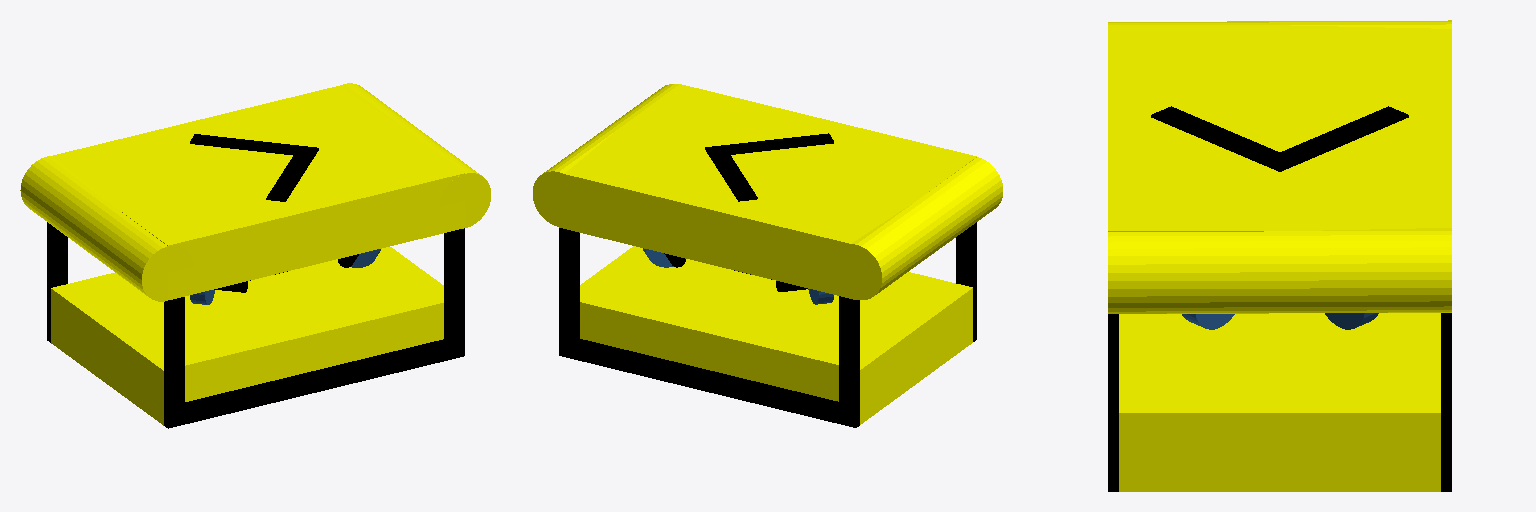
--- Render facts (derived) ---
Views: 3 orthographic renders of the robot side by side, from view 1: azimuth 30°, elevation 25°; view 2: azimuth 150°, elevation 25°; view 3: azimuth 270°, elevation 25°.
Robot: bravo_toy_saab — 34 links, 33 joints (1 revolute, 32 fixed); root link new_base; default pose: all joints at 0.
Links seen in each view (by area): view 1: vehicle_base_link, bottom_body_link, rear_bumper, R_bar, front_bumper, B_R_bar, F_R_bar, B_L_bar, l_arrow, r_arrow; view 2: vehicle_base_link, bottom_body_link, rear_bumper, L_bar, front_bumper, B_L_bar, F_L_bar, B_R_bar, r_arrow, l_arrow; view 3: vehicle_base_link, bottom_body_link, front_bumper, l_arrow, r_arrow, F_L_bar, F_R_bar, rear_bumper, pf_fan, sf_fan.
Link boxes in pixels (box(x1,y1,x2,y2)): vehicle_base_link: box(53, 86, 464, 299); bottom_body_link: box(51, 247, 443, 425); rear_bumper: box(20, 156, 193, 301); R_bar: box(164, 338, 464, 427); front_bumper: box(340, 83, 490, 227); B_R_bar: box(164, 297, 184, 428); F_R_bar: box(444, 228, 464, 359); B_L_bar: box(47, 222, 67, 324); l_arrow: box(190, 134, 318, 155); r_arrow: box(266, 146, 318, 201); vehicle_base_link: box(559, 84, 976, 299); bottom_body_link: box(580, 246, 972, 424); rear_bumper: box(830, 157, 1002, 299); L_bar: box(562, 338, 859, 427); front_bumper: box(533, 84, 678, 227); B_L_bar: box(839, 296, 859, 427); F_L_bar: box(559, 228, 579, 359); B_R_bar: box(956, 222, 976, 323); r_arrow: box(708, 133, 833, 154); l_arrow: box(705, 145, 757, 201); vehicle_base_link: box(1108, 25, 1451, 231); bottom_body_link: box(1119, 313, 1440, 491); front_bumper: box(1108, 228, 1451, 313); l_arrow: box(1263, 106, 1408, 171); r_arrow: box(1151, 106, 1295, 171); F_L_bar: box(1441, 313, 1451, 491); F_R_bar: box(1108, 314, 1118, 491); rear_bumper: box(1108, 20, 1451, 28); pf_fan: box(1325, 313, 1378, 329); sf_fan: box(1182, 314, 1234, 329).
Bounding box of the posed robot: 1 × 0.6007 × 0.505 m (x, y, z).
Geometry: only primitive shapes (box / cylinder / sphere) drawn; not drawn: 16 mesh visuals (reference in a form the renderer does not follow).

robot.urdf — bravo_toy_saab:
<?xml version="1.0" encoding="utf-8"?>
<!-- =================================================================================== -->
<!-- |    This document was autogenerated by xacro from test_reach5mini.urdf.xacro     | -->
<!-- |    EDITING THIS FILE BY HAND IS NOT RECOMMENDED                                 | -->
<!-- |    Unless you're Marcus Rosette or Hannah Kolano or Scott Chow  -->
<!-- =================================================================================== -->
<!-- when doing STL -> OBJ conversion, use this to keep origins: https://blender.stackexchange.com/questions/26451/how-to-move-a-complex-object-to-the-origin-without-destroying-it -->
<robot name="bravo_toy_saab">
  
  <link name="new_base"/>

  <joint name="planar_world" type="revolute">
    <parent link="new_base"/>
    <child link="vehicle_base_link"/>
    <axis xyz=" 0. 1. 0."/>
    <origin rpy="0 0 0" xyz="0 0 0.125"/>
  </joint>

  <!-- ======================================= -->
  <!-- - - - - - - - MATERIALS - - - - - - - - -->
  <!-- ======================================= -->
    <material name="bravo_black">
      <color rgba="0.3 0.3 0.3 1. "/>
    </material>
    <material name="bravo_finger_jaws_black">
      <color rgba="0.3 0.3 0.3 1. "/>
    </material>
    <material name="green_v">
      <color rgba="0.5 0.9 0.3 1"/>
    </material>
    <material name="black">
      <color rgba="0 0 0 1"/>
    </material>
    <material name="black_v">
      <color rgba="0 0 0 1"/>
    </material>
    <material name="blue_v">
      <color rgba="0.2 0.4 0.6 1"/>
    </material>
    <material name="orange_v">
      <color rgba="1 .4 0 1"/>
    </material>
    <material name="grey_v">
      <color rgba=".3 .3 .3 1"/>
    </material>
    <material name="red_v">
      <color rgba="1 0 0 1"/>
    </material>
    <material name="yellow_v">
      <color rgba="1 1 0 1"/>
    </material>


  <!-- ======================================= -->
  <!--             VEHICLE LINKS               -->
  <!-- ======================================= -->
  <link name="vehicle_base_link">
    <visual>
      <geometry>
        <box size="0.85 0.6 0.15"/>
      </geometry>
      <material name="yellow_v"/>
    </visual>
    <inertial>
      <mass value="40"/> 
      <origin xyz="0.0 0.0 -0.06"/>
      <inertia ixx="6.31" ixy="0.0" ixz="0.22" 
      iyy="10.15" iyz="0.0" 
      izz="3.93"/>
    </inertial>
  </link>

  <link name="bottom_body_link">
    <visual>
      <geometry>
        <box size="0.85 0.56 0.15"/>
      </geometry>
      <material name="yellow_v"/>
    </visual>
    <inertial>
      <mass value="20"/> 
      <origin xyz="0.0 0.0 -0.06"/>
      <inertia ixx="6.31" ixy="0.0" ixz="0.22" 
      iyy="10.15" iyz="0.0" 
      izz="3.93"/>
    </inertial>
  </link>
  <joint name="bottom_body_joint" type="fixed">
    <parent link="vehicle_base_link"/>
    <child link="bottom_body_link"/>
    <origin rpy="0 0 0" xyz="0 0 -.35"/>
  </joint>


<!-- IF YOU EVER ADD MORE LINKS, MAKE SURE TO CHANGE THE BUOYANCY FRAME VECTOR FOR THE ARM BASE FRAME!!! -->

<!-- ======= Perception Head ======= -->
  <link name="perception_link">
    <visual>
      <geometry>
        <mesh filename="[local-path]/OneDrive/Desktop/IMML Lab/Testbed/Pitch_compliance/rsa_perception_sensor.obj"/>
      </geometry>
    </visual>
    <inertial>
      <mass value="0.003"/> 
      <origin xyz="0.0 0.074 0.056"/>
      <inertia ixx="0.013" ixy="0.0" ixz="0.0" 
      iyy="0.007" iyz="0.004" 
      izz="0.01"/>
    </inertial>
  </link>
  <joint name="perception_joint" type="fixed">
    <parent link="vehicle_base_link"/>
    <child link="perception_link"/>
    <origin rpy="1.5707 0 -1.5707" xyz="0.5 0.175 -.05"/>
  </joint>


<!-- ======= Bottom Frame ======= -->
  <link name="F_R_bar">
    <visual>
      <geometry>
        <box size = "0.35 0.02 0.05"/>
      </geometry>
      <material name="black_v"/>
    </visual>
  </link>
    <joint name="FRBarJoint" type="fixed">
      <parent link="vehicle_base_link"/>
      <child link="F_R_bar"/>
      <origin rpy="0 1.57075 0" xyz="0.4 -.29 -.25"/>
    </joint>
  <link name="F_L_bar">
    <visual>
      <geometry>
        <box size = "0.35 0.02 0.05"/>
      </geometry>
      <material name="black_v"/>
    </visual>
  </link>
    <joint name="FLBarJoint" type="fixed">
      <parent link="vehicle_base_link"/>
      <child link="F_L_bar"/>
      <origin rpy="0 1.57075 0" xyz="0.4 .29 -.25"/>
    </joint>
  <link name="B_L_bar">
      <visual>
        <geometry>
          <box size = "0.35 0.02 0.05"/>
        </geometry>
        <material name="black_v"/>
      </visual>
  </link>
    <joint name="BLBarJoint" type="fixed">
      <parent link="vehicle_base_link"/>
      <child link="B_L_bar"/>
      <origin rpy="0 1.57075 0" xyz="-0.4 .29 -.25"/>
    </joint>
  <link name="B_R_bar">
    <visual>
      <geometry>
        <box size = "0.35 0.02 0.05"/>
      </geometry>
      <material name="black_v"/>
    </visual>
  </link>
    <joint name="BRBarJoint" type="fixed">
      <parent link="vehicle_base_link"/>
      <child link="B_R_bar"/>
      <origin rpy="0 1.57075 0" xyz="-0.4 -.29 -.25"/>
    </joint>
  <link name="R_bar">
    <visual>
      <geometry>
        <box size = "0.85 0.02 0.05"/>
      </geometry>
      <material name="black_v"/>
    </visual>
  </link>
    <joint name="RBarJoint" type="fixed">
      <parent link="vehicle_base_link"/>
      <child link="R_bar"/>
      <origin rpy="0 0 0" xyz="0 -.29 -.4"/>
    </joint>
  <link name="L_bar">
    <visual>
      <geometry>
        <box size = "0.85 0.02 0.05"/>
      </geometry>
      <material name="black_v"/>
    </visual>
  </link>
    <joint name="LBarJoint" type="fixed">
      <parent link="vehicle_base_link"/>
      <child link="L_bar"/>
      <origin rpy="0 0 0" xyz="0 .29 -.4"/>
    </joint>

<!-- ======= Front/Back Bumpers ======= -->
  <link name="front_bumper">
    <visual>
      <geometry>
        <cylinder length="0.6" radius="0.075"/>
      </geometry>
      <material name="yellow_v"/>
     </visual>
  </link>
    <joint name="fbump_link" type="fixed">
      <parent link="vehicle_base_link"/>
      <child link="front_bumper"/>
      <origin rpy="1.57579632679 0 0" xyz="0.425 0 0"/>
    </joint>
  <link name="rear_bumper">
      <visual>
        <geometry>
          <cylinder length="0.6" radius="0.075"/>
        </geometry>
        <material name="yellow_v"/>
      </visual>
  </link>
    <joint name="rbump_link" type="fixed">
      <parent link="vehicle_base_link"/>
      <child link="rear_bumper"/>
      <origin rpy="1.57579632679 0 0" xyz="-0.425 0 0"/>
    </joint>

<!-- ======= Front Arrow ======= -->
  <link name="l_arrow">
    <visual>
      <geometry>
        <box size="0.05 0.318 0.01"/>
      </geometry>
      <material name="black_v"/>
    </visual>
  </link>
    <joint name="l_arrow_link" type="fixed">
      <parent link="vehicle_base_link"/>
      <child link="l_arrow"/>
      <origin rpy="0 0 0.787898163397" xyz="0.05 0.095 0.075"/>
    </joint>
  <link name="r_arrow">
    <visual>
      <geometry>
        <box size="0.05 0.318 0.01"/>
      </geometry>
      <material name="black_v"/>
    </visual>
  </link>
    <joint name="r_arrow_link" type="fixed">
      <parent link="vehicle_base_link"/>
      <child link="r_arrow"/>
      <origin rpy="0 0 -0.787898163397" xyz="0.05 -0.095 0.075"/>
    </joint>

<!-- ======= Thrusters ======= -->
  <link name="sf_fan">
    <visual>
      <geometry>
        <cylinder length="0.04" radius="0.06"/>
      </geometry>
      <material name="blue_v"/>
    </visual>
  </link>
    <joint name="base_to_sf_fan" type="fixed">
      <parent link="vehicle_base_link"/>
      <child link="sf_fan"/>
      <origin rpy="0 1.57579632679 0.785" xyz="0.22 -0.12 -0.14"/>
    </joint>
  <link name="sf_thruster">
    <visual>
      <geometry>
        <cylinder length="0.1" radius="0.02"/>
      </geometry>
      <material name="black_v"/>
    </visual>
  </link>
    <joint name="sf_fan_thruster_joint" type="fixed">
      <parent link="sf_fan"/>
      <child link="sf_thruster"/>
      <origin xyz="0 0 -0.06"/>
    </joint>
  <link name="pf_fan">
    <visual>
      <geometry>
        <cylinder length="0.04" radius="0.06"/>
      </geometry>
      <material name="blue_v"/>
    </visual>
  </link>
    <joint name="base_to_pf_fan" type="fixed">
      <parent link="vehicle_base_link"/>
      <child link="pf_fan"/>
      <origin rpy="0 1.57579632679 -0.785" xyz="0.22 0.12 -0.14"/>
    </joint>
  <link name="pf_thruster">
    <visual>
      <geometry>
        <cylinder length="0.1" radius="0.02"/>
      </geometry>
      <material name="black_v"/>
    </visual>
  </link>
    <joint name="pf_fan_thruster_joint" type="fixed">
      <parent link="pf_fan"/>
      <child link="pf_thruster"/>
      <origin xyz="0 0 -0.06"/>
    </joint>
  <link name="sa_fan">
    <visual>
      <geometry>
        <cylinder length="0.04" radius="0.06"/>
      </geometry>
      <material name="blue_v"/>
    </visual>
  </link>
    <joint name="base_to_sa_fan" type="fixed">
      <parent link="vehicle_base_link"/>
      <child link="sa_fan"/>
      <origin rpy="0 -1.57579632679 -0.785" xyz="-0.22 -0.12 -0.14"/>
    </joint>
  <link name="sa_thruster">
    <visual>
      <geometry>
        <cylinder length="0.1" radius="0.02"/>
      </geometry>
      <material name="black_v"/>
    </visual>
  </link>
    <joint name="sa_fan_thruster_joint" type="fixed">
      <parent link="sa_fan"/>
      <child link="sa_thruster"/>
      <origin xyz="0 0 -0.06"/>
    </joint>
  <link name="pa_fan">
    <visual>
      <geometry>
        <cylinder length="0.04" radius="0.06"/>
      </geometry>
      <material name="blue_v"/>
    </visual>
  </link>
    <joint name="base_to_pa_fan" type="fixed">
      <parent link="vehicle_base_link"/>
      <child link="pa_fan"/>
      <origin rpy="0 -1.57579632679 0.785" xyz="-0.22 0.12 -0.14"/>
    </joint>
  <link name="pa_thruster">
    <visual>
      <geometry>
        <cylinder length="0.1" radius="0.02"/>
      </geometry>
      <material name="black_v"/>
    </visual>
  </link>
    <joint name="pa_fan_thruster_joint" type="fixed">
      <parent link="pa_fan"/>
      <child link="pa_thruster"/>
      <origin xyz="0 0 -0.06"/>
    </joint>

  <link name="seabotix_bottle">
    <visual>
      <geometry>
        <cylinder length="0.26" radius="0.05"/>
      </geometry>
      <material name="black_v"/>
    </visual>
  </link>
    <joint name="sbottle_link" type="fixed">
      <parent link="vehicle_base_link"/>
      <child link="seabotix_bottle"/>
      <origin rpy="0 1.57579632679 0" xyz="-0.05 0 -0.18"/>
    </joint>


<!-- ======================================= -->
<!--               BRAVO LINKS               -->
<!-- ======================================= -->
  <joint name="bravo_joint" type="fixed">
    <origin rpy="1.57079 0 0" xyz=".425 0 -.39"/>
    <parent link="vehicle_base_link"/>
    <child link="bravo_base_link"/>
  </joint>

  <link name="bravo_base_link">
    <inertial>
      <!-- <mass value="1.25"/> --> <!-- weight in air -->
      <mass value="0.53216"/> <!-- buoyancy balanced weight. calc from buoyancy_setup.jl -->
      <origin xyz="-0.075 -0.006 -0.003"/>
      <inertia ixx="0.002108" ixy="0.00018199999999999998" ixz="-1.4999999999999999e-05" iyy="0.0025729999999999998" iyz="-2.1e-05" izz="0.003483"/>
    </inertial>
    <visual>
      <geometry>
        <mesh filename="[local-path]/OneDrive/Documents/GitHub/onr_compliance_julia/meshes/RS2-1019_base.obj"/>
      </geometry>
      <material name="bravo_black"/>
      <origin rpy="0.0 -0.0 0.0" xyz="0.0 0.0 0.0"/>
    </visual>
    <collision>
      <geometry>
        <box size="0.0725 0.1112 0.083 "/>
      </geometry>
      <origin rpy="0.0 0.0 0.0" xyz="0.03625 0.0 0.0415"/>
    </collision>
    <collision>
      <geometry>
        <box size="0.05 0.08 0.06"/>
      </geometry>
      <origin rpy="0.0 0.0 0.0" xyz="0.025 -0.04556 0.03"/>
    </collision>
    <collision>
      <geometry>
        <cylinder length="0.083" radius="0.046"/>
      </geometry>
      <origin rpy="0.0 0.0 0.0" xyz="0.0665 0.0 0.0415"/>
    </collision>
  </link>

  <joint name="bravo_axis_g" type="fixed">
    <dynamics damping="10.0" friction="0.0"/>
    <limit effort="500.0" lower="0.0" upper="6.2" velocity="3.0"/>
    <parent link="bravo_base_link"/>
    <child link="bravo_1019_end_link"/>
    <axis xyz=" 0.  0. -1."/>
    <origin rpy="0.0 0.0 0" xyz="0.0665 0.08 0.0"/>
  </joint>

  <link name="bravo_1019_end_link">
    <inertial>
      <!-- <mass value="1.55"/> --> <!-- weight in air -->
      <mass value="0.95180"/> <!-- buoyancy balanced weight. calc from buoyancy_setup.jl -->
      <inertia ixx="0.011441999999999999" ixy="-0.000484" ixz="0.003405" iyy="0.01298" iyz="-0.0012649999999999998" izz="0.003202"/>
      <origin xyz="0.005 -0.001 0.016"/>
    </inertial>
    <visual>
      <geometry>
        <mesh filename="[local-path]/OneDrive/Documents/GitHub/onr_compliance_julia/meshes/RS2-1019_end.obj"/>
      </geometry>
      <material name="bravo_black"/>
      <origin rpy="0.0 -0.0 0.0" xyz="0.0 0.0 0.0"/>
    </visual>
    <visual>
      <geometry>
        <mesh filename="[local-path]/OneDrive/Documents/GitHub/onr_compliance_julia/meshes/RS2-1013_base.obj"/>
      </geometry>
      <material name="bravo_black"/>
      <origin rpy="0.0 -0.0 0.0" xyz="0.0 0.0 0.0"/>
    </visual>
    <collision>
      <geometry>
        <mesh filename="[local-path]/OneDrive/Documents/GitHub/onr_compliance_julia/meshes/RS2-1019_end.obj"/>
      </geometry>
      <origin rpy="0.0 -0.0 0.0" xyz="0.0 0.0 0.0"/>
    </collision>
    <collision>
      <geometry>
        <cylinder length="0.03" radius="0.046"/>
      </geometry>
      <origin rpy="0.0 -0.0 0.0" xyz="0.0 0.0 0.015"/>
    </collision>
    <collision>
      <geometry>
        <cylinder length="0.1" radius="0.046"/>
      </geometry>
      <origin rpy="1.5707 -0.0 0.0" xyz="0.048 0.0 0.0642"/>
    </collision>
  </link>

  <joint name="bravo_axis_f" type="fixed"> <!-- Used to be revolute -->
    <dynamics damping="10.0" friction="0.0"/>
    <limit effort="500.0" lower="0.0" upper="3.14" velocity="3.0"/>
    <parent link="bravo_1019_end_link"/>
    <child link="bravo_1013_joint_link"/>
    <axis xyz=" 0. 0. 1."/>
    <origin rpy="0.0 0.0 1.5707" xyz="0.046 0.0642 0.0"/>
  </joint>

  <link name="bravo_1013_joint_link">
    <inertial>
      <!-- <mass value="1.14"/> --> <!-- weight in air -->
      <mass value="0.67141"/> <!-- buoyancy balanced weight. calc from buoyancy_setup.jl -->
      <origin xyz="0.022 -0.029 0.001"/>
      <inertia ixx="0.0032129999999999997" ixy="-0.001548" ixz="-3.1e-05" iyy="0.002327" iyz="6e-06" izz="0.00434"/>
    </inertial>
    <visual>
      <geometry>
        <mesh filename="[local-path]/OneDrive/Documents/GitHub/onr_compliance_julia/meshes/RS2-1013_end.obj"/>
      </geometry>
      <material name="bravo_black"/>
      <origin rpy="0.0 -0.0 0.0" xyz="0.0 0.0 0.0"/>
    </visual>
    <visual>
      <geometry>
        <mesh filename="[local-path]/OneDrive/Documents/GitHub/onr_compliance_julia/meshes/RS2-1026_0_base.obj"/>
      </geometry>
      <material name="bravo_black"/>
      <origin rpy="3.14159 3.14159 0.0" xyz="0.04600000000128156 -0.2326 0.0"/>
    </visual>
    <visual>
      <geometry>
        <mesh filename="[local-path]/OneDrive/Documents/GitHub/onr_compliance_julia/meshes/RS2-1030.obj"/>
      </geometry>
      <material name="bravo_black"/>
      <origin rpy="3.14159 -0.0 0" xyz="0.046 -0.05055 0.0"/>
    </visual>
    <collision>
      <geometry>
        <cylinder length="0.03" radius="0.046"/>
      </geometry>
      <origin rpy="0.0 0.0 0.0" xyz="0.046 0.0 -0.03555"/>
    </collision>
    <collision>
      <geometry>
        <cylinder length="0.03" radius="0.0408"/>
      </geometry>
      <origin rpy="3.14159 -0.0 3.14159" xyz="0.04600000000138718 5.227571892886473e-07 -0.24754999999930644"/>
    </collision>
    <collision>
      <geometry>
        <cylinder length="0.0816" radius="0.0408"/>
      </geometry>
      <origin rpy="-1.5708953071795866 -0.0 3.14159" xyz="0.005200000001832204 7.445972960125356e-07 -0.29034999999915573"/>
    </collision>
    <collision>
      <geometry>
        <cylinder length="0.03033333" radius="0.046"/>
      </geometry>
      <origin rpy="3.14159 -0.0 3.14159" xyz="0.046000000000106796 4.0246094175109416e-08 -0.0657166599999466"/>
    </collision>
    <collision>
      <geometry>
        <cylinder length="0.03033333" radius="0.045"/>
      </geometry>
      <origin rpy="3.14159 -0.0 3.14159" xyz="0.04600000000032039 1.207383355971241e-07 -0.0960499999998398"/>
    </collision>
    <collision>
      <geometry>
        <cylinder length="0.03033333" radius="0.044"/>
      </geometry>
      <origin rpy="3.14159 -0.0 3.14159" xyz="0.04600000000053398 2.0123055844401027e-07 -0.126383332999733"/>
    </collision>
    <collision>
      <geometry>
        <cylinder length="0.03033333" radius="0.043"/>
      </geometry>
      <origin rpy="3.14159 -0.0 3.14159" xyz="0.046000000000747575 2.817227828830503e-07 -0.15671666659962621"/>
    </collision>
    <collision>
      <geometry>
        <cylinder length="0.03033333" radius="0.042"/>
      </geometry>
      <origin rpy="3.14159 -0.0 3.14159" xyz="0.04600000000096117 3.6221500679137236e-07 -0.18704999999951943"/>
    </collision>
    <collision>
      <geometry>
        <cylinder length="0.03033333" radius="0.041"/>
      </geometry>
      <origin rpy="3.14159 -0.0 3.14159" xyz="0.04600000000117476 4.427071420697953e-07 -0.21738329999941264"/>
    </collision>
  </link>

  <joint name="bravo_axis_e" type="fixed"> <!-- Used to be revolute -->
    <dynamics damping="10.0" friction="0.0"/>
    <limit effort="500.0" lower="0.0" upper="3.14" velocity="3.0"/>
    <parent link="bravo_1013_joint_link"/>
    <child link="bravo_1026_0_joint_link"/>
    <axis xyz=" 0. 0. 1."/>
    <origin rpy="0 0.0 0.0" xyz="0.0040000000018364235 -0.289 0.0"/>
  </joint>

  <link name="bravo_1026_0_joint_link">
    <inertial>
      <origin rpy="0.0 -0.0 0.0" xyz="0.017 -0.026 -0.002"/>
      <!-- <mass value="1.14"/> --> <!-- weight in air -->
      <mass value="0.63153"/> <!-- buoyancy balanced weight. calc from buoyancy_setup.jl -->
      <inertia ixx="0.021231999999999997" ixy="0.00033" ixz="-0.003738" iyy="0.022251999999999997" iyz="-0.0012779999999999998" izz="0.002054"/>
    </inertial>
    <visual>
      <geometry>
        <mesh filename="[local-path]/OneDrive/Documents/GitHub/onr_compliance_julia/meshes/RS2-1026_0_end.obj"/>
      </geometry>
      <material name="bravo_black"/>
      <origin rpy="0.0 -0.1 0.0" xyz="0.0 0.0 0.0"/>
    </visual>
    <collision>
      <geometry>
        <cylinder length="0.08" radius="0.0408"/>
      </geometry>
      <origin rpy="0.0 0.0 0.0" xyz="0.0408 0.0 -0.05385"/>
    </collision>
  </link>

  <joint name="bravo_axis_d" type="fixed">
    <dynamics damping="10.0" friction="0.0"/>
    <limit effort="500.0" lower="0.0" upper="6.2" velocity="3.0"/>
    <parent link="bravo_1026_0_joint_link"/>
    <child link="bravo_1026_1_joint_link"/>
    <axis xyz=" 0.  0. 1."/>
    <origin rpy="0.0 0.0 0" xyz="0.0408 -0.1 -0.003"/>
  </joint>

  <link name="bravo_1026_1_joint_link">
    <inertial>
      <!-- <mass value="1.03"/> --> <!-- weight in air -->
      <mass value="0.60129"/> <!-- buoyancy balanced weight. calc from buoyancy_setup.jl -->
      <origin xyz="0.020 -0.024 0.001"/>
      <inertia ixx="0.00243" ixy="-0.001144" ixz="-3.9999999999999996e-05" iyy="0.002026" iyz="1.1e-05" izz="0.00333"/>
    </inertial>
    <visual>
      <geometry>
        <mesh filename="[local-path]/OneDrive/Documents/GitHub/onr_compliance_julia/meshes/RS2-1026_1_end.obj"/>
      </geometry>
      <material name="bravo_black"/>
      <origin rpy="0.0 0.0 3.14159" xyz="0.0 0.0056 0.0056"/>
    </visual>
    <visual>
      <geometry>
        <mesh filename="[local-path]/OneDrive/Documents/GitHub/onr_compliance_julia/meshes/RS2-1023_0_base.obj"/>
      </geometry>
      <material name="bravo_black"/>
      <origin rpy="0.0 -0.0 3.14159" xyz="0.0 0.0 0.0056"/>
    </visual>
    <collision>
      <geometry>
        <cylinder length="0.0056" radius="0.0408"/>
      </geometry>
      <origin rpy="0.0 0.0 3.14159" xyz="0.0 0.0 0.0028"/>
    </collision>
    <collision>
      <geometry>
        <cylinder length="0.03" radius="0.0408"/>
      </geometry>
      <origin rpy="0.0 -0.0 3.14159" xyz="0.0 0.0 0.0206"/>
    </collision>
    <collision>
      <geometry>
        <cylinder length="0.0816" radius="0.0408"/>
      </geometry>
      <origin rpy="1.5707 -0.0 3.14159" xyz="-0.040799999999856354 1.082664635687914e-07 0.0634"/>
    </collision>
  </link>

  <joint name="bravo_axis_c" type="fixed"> <!-- Used to be revolute -->
    <dynamics damping="10.0" friction="0.0"/>
    <limit effort="500.0" lower="0.0" upper="3.2" velocity="3.0"/>
    <parent link="bravo_1026_1_joint_link"/>
    <child link="bravo_1023_0_joint_link"/>
    <axis xyz=" 0. 0. 1."/>
    <origin rpy="0 0 0.0" xyz="-0.041 -0.058 0.0055"/>
  </joint>

  <link name="bravo_1023_0_joint_link">
    <inertial>
      <origin rpy="0.0 -0.0 0.0" xyz="0.0 0.003 -0.098"/>
      <!-- <mass value="0.333"/> --> <!-- This was the original... not sure where it comes from. Is different than bravo manual-->
      <!-- Using mass properties from Bravo KD Properties manual -->
      <mass value="0.04820"/> <!-- buoyancy balanced weight. calc from buoyancy_setup.jl -->
      <inertia ixx="0.003709" ixy="-2e-06" ixz="-4e-06" iyy="0.003734" iyz="0.0" izz="7.9e-05"/>
    </inertial>
    <visual>
      <geometry>
        <mesh filename="[local-path]/OneDrive/Documents/GitHub/onr_compliance_julia/meshes/RS2-1023_0_end.obj"/>
      </geometry>
      <material name="bravo_black"/>
      <origin rpy="0.0 -0.1 0.0" xyz="0.0 0.0 0.0"/>
    </visual>
    <collision>
      <geometry>
        <cylinder length="0.08" radius="0.0408"/>
      </geometry>
      <origin rpy="0.0 0.0 0.0" xyz="0.0408 0.0 -0.05385"/>
    </collision>
  </link>

  <joint name="bravo_axis_b" type="fixed">
    <dynamics damping="10.0" friction="0.0"/>
    <limit effort="500.0" lower="0.0" upper="6.2" velocity="3.0"/>
    <parent link="bravo_1023_0_joint_link"/>
    <child link="bravo_1023_1_joint_link"/>
    <axis xyz=" 0.  0. -1."/>
    <origin rpy="3.14159 -1.5707 0.0" xyz="0.0408 -0.09434999999999824 0.003"/>
  </joint>

  <link name="bravo_1023_1_joint_link">
    <inertial>
      <origin xyz="0.0 0.003 -0.098"/>
      <!-- <mass value="1.04"/> --> <!-- weight in air -->
      <mass value="0.56144"/> <!-- buoyancy balanced weight. calc from buoyancy_setup.jl -->
      <inertia ixx="0.022359" ixy="1e-06" ixz="-1.8999999999999998e-05" iyy="0.022362999999999997" iyz="1.4999999999999999e-05" izz="0.000936"/>
    </inertial>
    <visual>
      <geometry>
        <mesh filename="[local-path]/OneDrive/Documents/GitHub/onr_compliance_julia/meshes/RS2-1023_1_end.obj"/>
      </geometry>
      <material name="bravo_black"/>
      <origin rpy="0.0 -0.0 0.0" xyz="0.0 0.0 0.0"/>
    </visual>
    <visual>
      <geometry>
        <mesh filename="[local-path]/OneDrive/Documents/GitHub/onr_compliance_julia/meshes/RS2-1028.obj"/>
      </geometry>
      <material name="bravo_black"/>
      <origin rpy="0.0 -0.0 0.0" xyz="0.0 0.0 0.0"/>
    </visual>
    <visual>
      <geometry>
        <mesh filename="[local-path]/OneDrive/Documents/GitHub/onr_compliance_julia/meshes/end_effectors/RS2-257.obj"/>
      </geometry>
      <material name="bravo_finger_jaws_black"/>
      <origin rpy="-1.5707 0.0 1.5707" xyz="0.0 0.1256 0.0"/>
    </visual>
    <collision>
      <geometry>
        <cylinder length="0.0056" radius="0.0408"/>
      </geometry>
      <origin rpy="0.0 0.0 0.0" xyz="0.0 0.0 0.0028"/>
    </collision>
    <collision>
      <geometry>
        <cylinder length="0.12" radius="0.0408"/>
      </geometry>
      <origin rpy="0.0 -0.0 0.0" xyz="0.0 0.0 0.06559999999999999"/>
    </collision>
    <collision>
      <geometry>
        <cylinder length="0.02" radius="0.05"/>
      </geometry>
      <origin rpy="-9.632679489654805e-05 -9.631751559834678e-05 -1.5706999907215955" xyz="9.632679474766714e-07 0.0 0.13559999995360572"/>
    </collision>
  </link>

  <joint name="bravo_axis_a" type="fixed">
    <dynamics damping="10.0" friction="0.0"/>
    <limit effort="1000.0" lower="0.0" upper="0.035" velocity="10.0"/>
    <parent link="bravo_1023_1_joint_link"/>
    <child link="bravo_push_rod"/>
    <axis xyz="0. 0. -1."/>
    <origin rpy="-1.5707 0.0 1.5706999999997038" xyz="0.008999999958245167 0.12560000008350966 0.0"/>
  </joint>

  <link name="bravo_push_rod">
    <inertial>
      <origin rpy="0.0 -0.0 0.0" xyz="0.0 0.0 0.0"/>
      <mass value="0.1"/>
      <inertia ixx="0.0001" ixy="0.0" ixz="0.0" iyy="0.0001" iyz="0.0" izz="0.0001"/>
    </inertial>
  </link>

  <joint name="bravo_finger_jaws_rs2_300_joint" type="fixed">
    <limit effort="400.0" lower="0.0" upper="1.0" velocity="3.0"/>
    <mimic joint="bravo_axis_a" multiplier="18.0" offset="0.0"/>
    <parent link="bravo_1023_1_joint_link"/>
    <child link="bravo_finger_jaws_rs2_300_link"/>
    <axis xyz=" 0.  0. -1."/>
    <origin rpy="-1.5707 0.0 1.5707" xyz="-0.032999065323888854 0.1353031787392095 0.0"/>
  </joint>

  <joint name="bravo_finger_jaws_rs2_301_joint" type="fixed">
    <limit effort="400.0" lower="0.0" upper="1.0" velocity="3.0"/>
    <mimic joint="bravo_finger_jaws_rs2_300_joint" multiplier="1.0" offset="0.0"/>
    <parent link="bravo_1023_1_joint_link"/>
    <child link="bravo_finger_jaws_rs2_301_link"/>
    <axis xyz="0. 0. 1."/>
    <origin rpy="-1.5707 0 1.5707" xyz="0.03300093406370696 0.13529682117078565 0.0"/>
  </joint>

  <link name="bravo_finger_jaws_rs2_300_link">
    <inertial>
      <origin rpy="0.0 -0.0 0.0" xyz="0.05 0.0 0.0"/>
      <!-- <mass value="0.24"/> --> <!-- weight in air -->
      <mass value="0.15524"/> <!-- (divided by two, for each jaw) buoyancy balanced weight. calc from buoyancy_setup.jl -->
      <inertia ixx="0.000244" ixy="-1.2e-05" ixz="0.0" iyy="0.00113" iyz="1e-06" izz="0.001178"/>
    </inertial>
    <visual>
      <geometry>
        <mesh filename="[local-path]/OneDrive/Documents/GitHub/onr_compliance_julia/meshes/end_effectors/RS2-300.obj"/>
      </geometry>
      <material name="bravo_finger_jaws_black"/>
      <origin rpy="0.0 -0.0 0.0" xyz="0.0 0.0 0.0"/>
    </visual>
    <collision>
      <geometry>
        <mesh filename="[local-path]/OneDrive/Documents/GitHub/onr_compliance_julia/meshes/end_effectors/RS2-300.obj"/>
      </geometry>
      <origin rpy="0.0 -0.0 0.0" xyz="0.0 0.0 0.0"/>
    </collision>
  </link>

  <link name="bravo_finger_jaws_rs2_301_link">
    <inertial>
      <origin rpy="0.0 -0.0 0.0" xyz="0.05 0.0 0.0"/>
      <!-- <mass value="0.24"/> --> <!-- weight in air -->
      <mass value="0.15524"/> <!-- (divided by two, for each jaw) buoyancy balanced weight. calc from buoyancy_setup.jl -->
      <inertia ixx="0.000244" ixy="-1.2e-05" ixz="0.0" iyy="0.00113" iyz="1e-06" izz="0.001178"/>
    </inertial>
    <visual>
      <geometry>
        <mesh filename="[local-path]/OneDrive/Documents/GitHub/onr_compliance_julia/meshes/end_effectors/RS2-301.obj"/>
      </geometry>
      <material name="bravo_finger_jaws_black"/>
      <origin rpy="0.0 -0.0 0.0" xyz="0.0 0.0 0.0"/>
    </visual>
    <collision>
      <geometry>
        <mesh filename="[local-path]/OneDrive/Documents/GitHub/onr_compliance_julia/meshes/end_effectors/RS2-301.obj"/>
      </geometry>
      <origin rpy="0.0 -0.0 0.0" xyz="0.0 0.0 0.0"/>
    </collision>
  </link>
  
  <link name="ee_link"/>
  
  <joint name="ee_link_joint" type="fixed">
    <parent link="bravo_1023_1_joint_link"/>
    <child link="ee_link"/>
    <origin rpy="0 0 -1.5707" xyz="0 0.120 0"/>
  
  </joint>
</robot>
